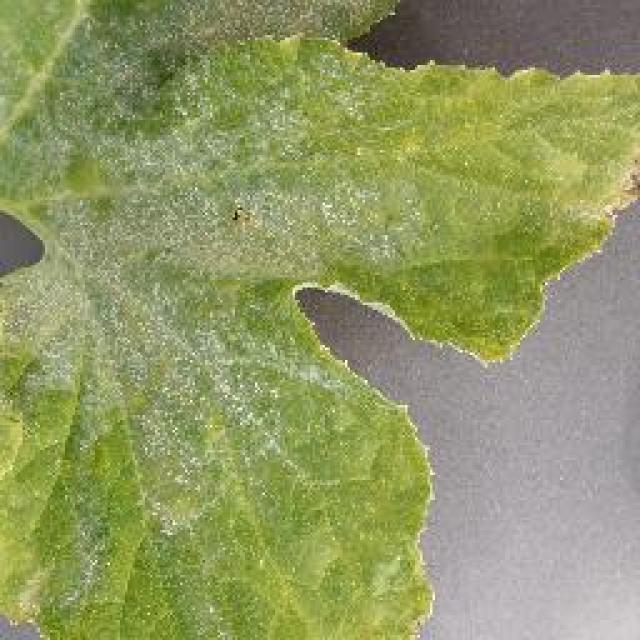Squ_Powdery_mildew: (12, 0, 398, 535)
